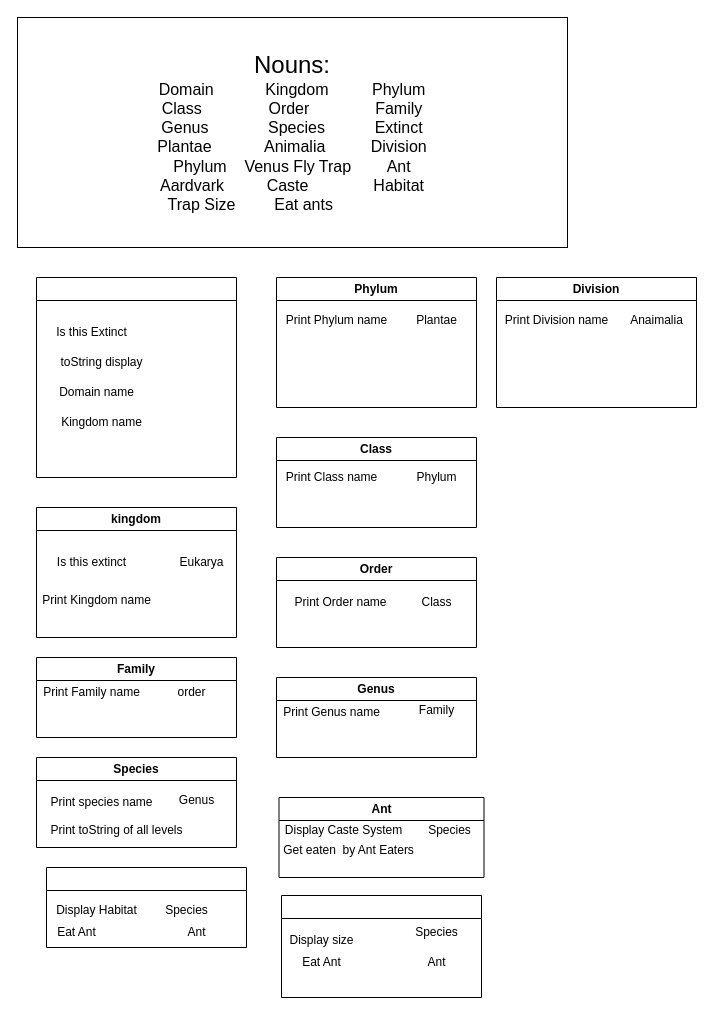
The diagram is 714 pixels wide and 1015 high, and some of its shapes have lost their labels. The box of each missing label's shape, as (x1, y1, x2, y2) in pixels:
Aardvark: (46, 866, 246, 948)
Eukarya (Abstract): (36, 276, 236, 478)
Venus Fly Trap: (280, 894, 482, 998)
